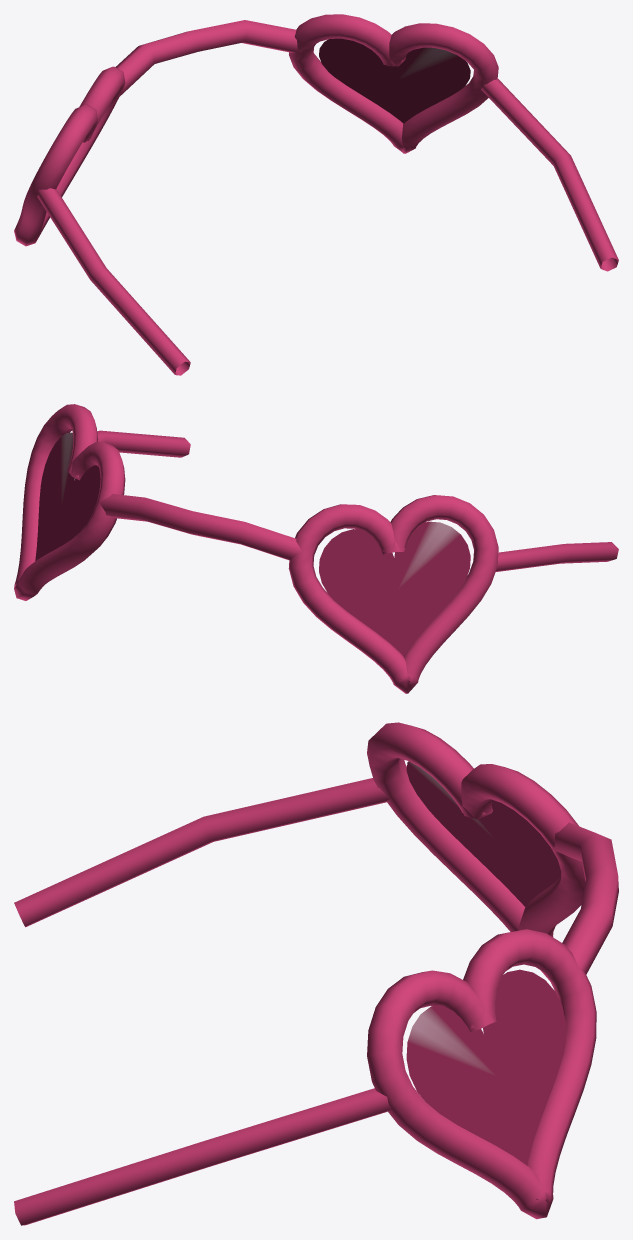
The model's file is Wear_HeartGlasses.fbx.
The picture shows the model from 3 angles, top to bottom: view 1: azimuth 30°, elevation 25°; view 2: azimuth 150°, elevation 25°; view 3: azimuth 270°, elevation 25°; orthographic projection. The views are drawn at different scales.
Visible parts, largest first — view 1: Wear_HeartGlasses; view 2: Wear_HeartGlasses; view 3: Wear_HeartGlasses.
Part boxes in pixels (x1,y1,x2,y2): Wear_HeartGlasses: (14, 14, 618, 375); Wear_HeartGlasses: (14, 404, 618, 693); Wear_HeartGlasses: (14, 722, 618, 1225).
Size of the model in its own units: 0.1303 by 0.0427 by 0.0995.
